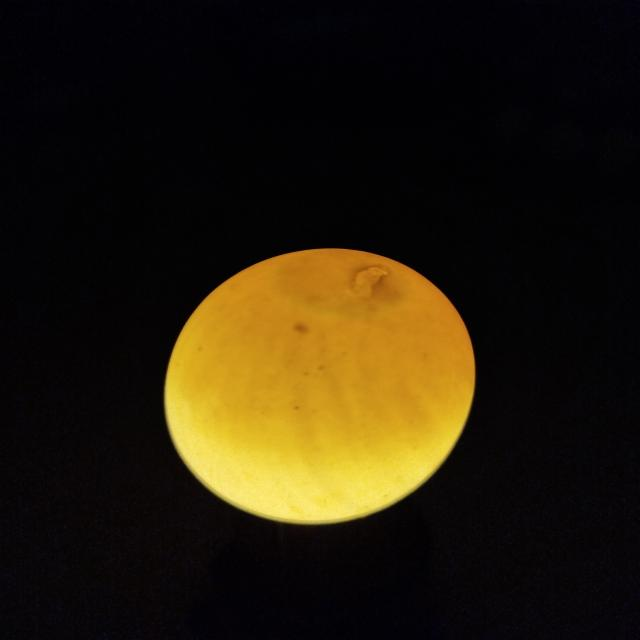Camara de Ar: (275, 248, 417, 318)
Rachadura: (353, 266, 388, 297)
